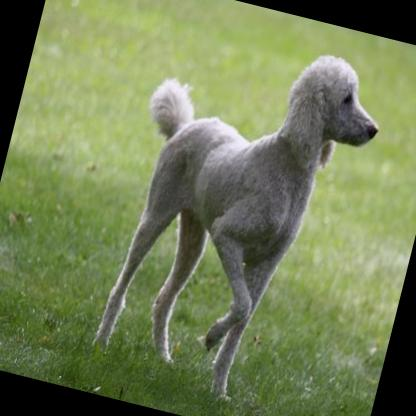standard_poodle: (81, 11, 395, 416)
